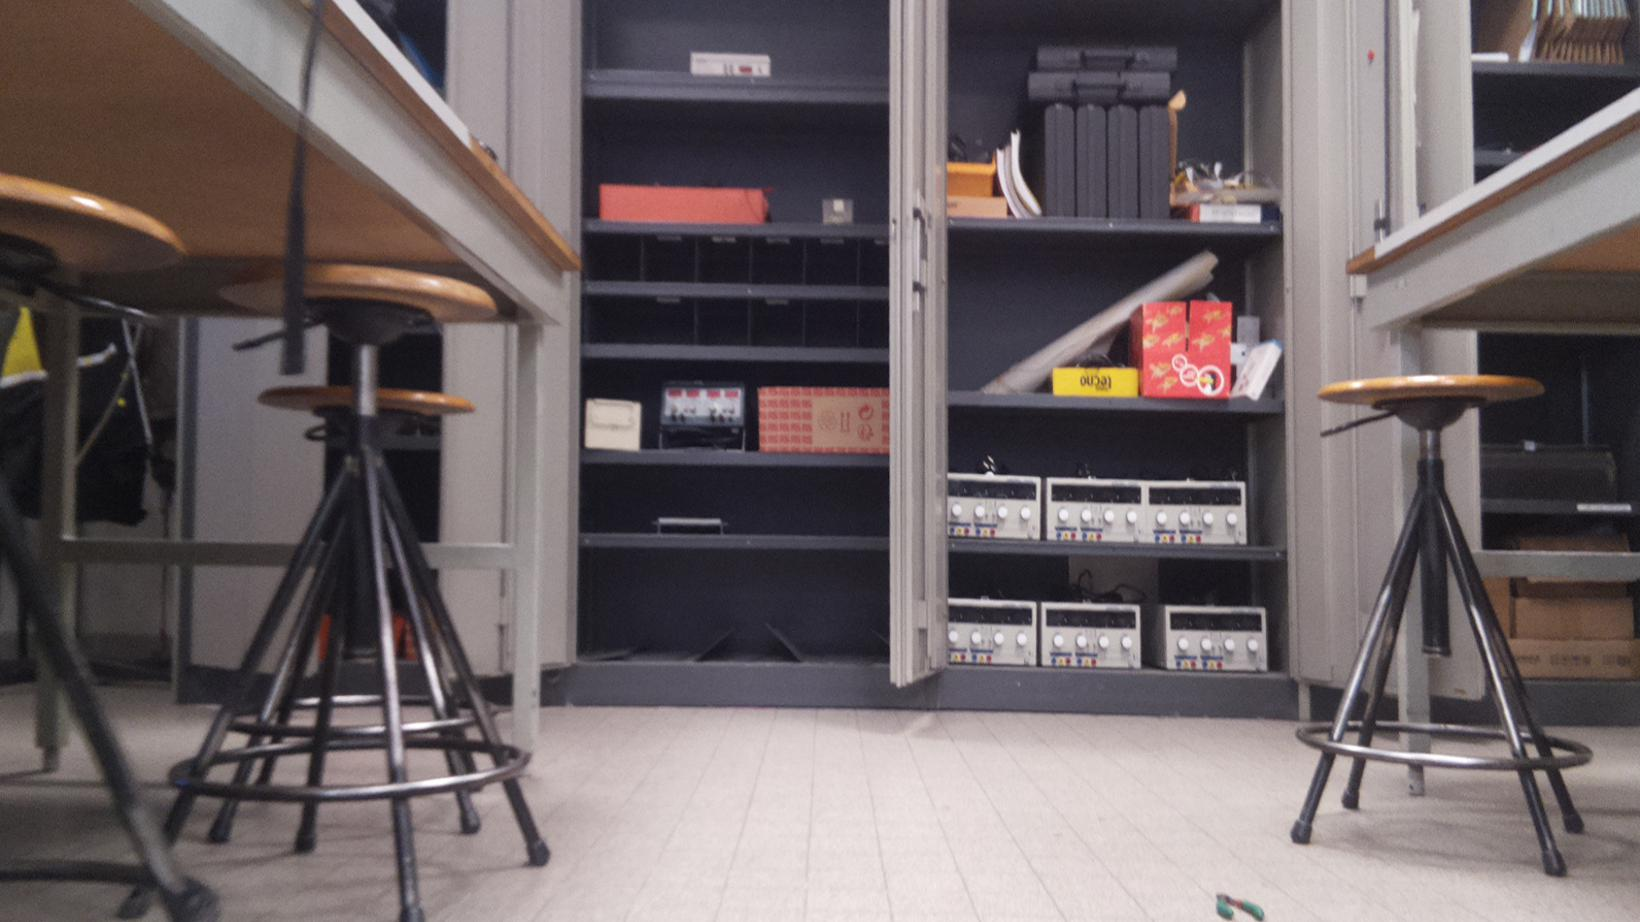small: (1213, 889, 1264, 922)
